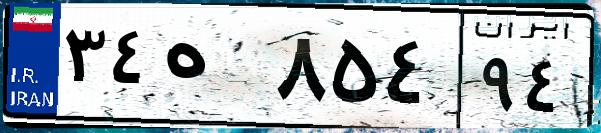3: (57, 26, 110, 100)
4: (385, 28, 445, 110), (525, 38, 570, 115), (110, 28, 158, 98)
5: (330, 28, 385, 110)
8: (270, 28, 330, 110)
9: (475, 38, 525, 113)
ه: (158, 20, 270, 120)
